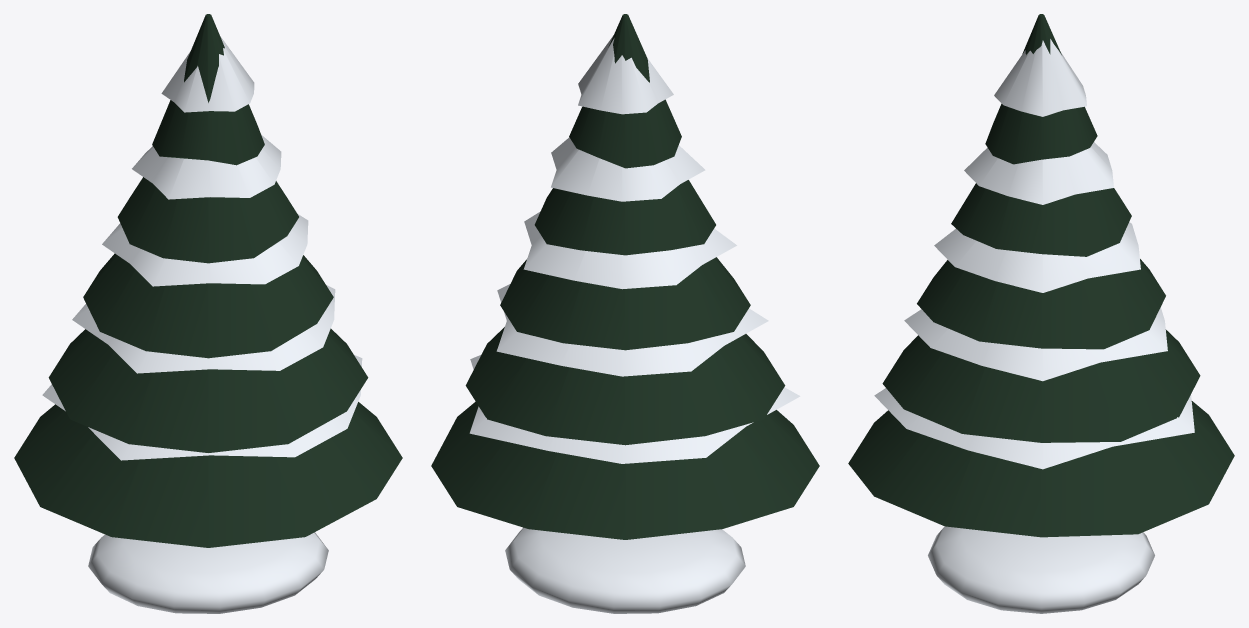
Rendered from pine_b.glb.
3 views of the same model, side by side, from view 1: azimuth 30°, elevation 25°; view 2: azimuth 150°, elevation 25°; view 3: azimuth 270°, elevation 25° (orthographic).
Parts seen in each view (by area): view 1: Pine; view 2: Pine; view 3: Pine.
Part boxes in pixels (bbox=[...]): Pine: bbox=[14, 14, 402, 613]; Pine: bbox=[431, 14, 819, 613]; Pine: bbox=[848, 14, 1234, 613].
Size of the model in its own units: 2.65 by 4.3 by 2.65.
